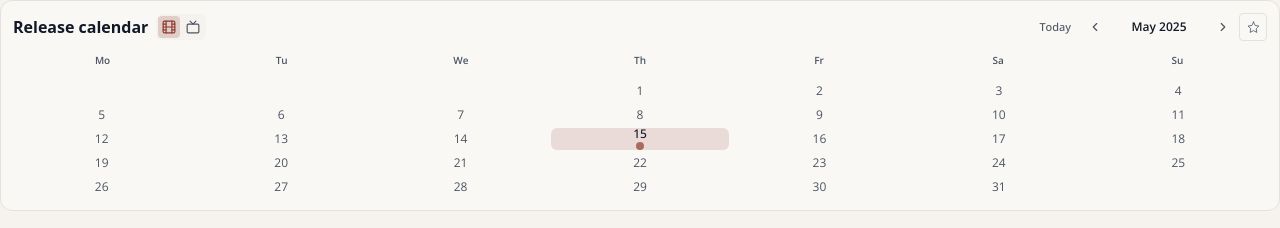
Test: ReleaseCalendar › day selection › clicking a day with a release shows the releases panel
Click the button named "May 15, 2025" at (640, 139), box [551,128,729,150]
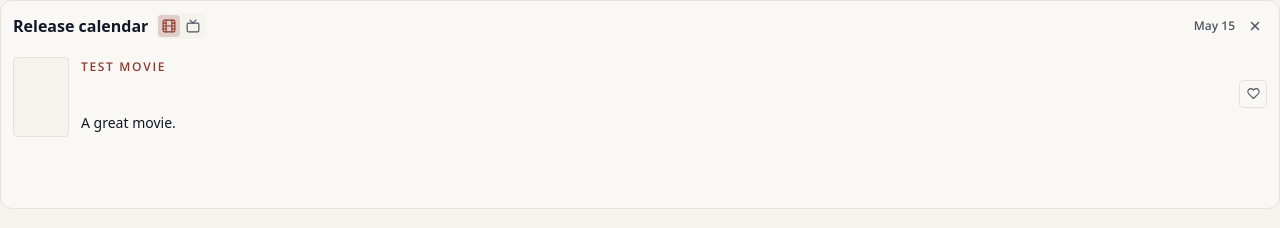
Check: the text "Test Movie" is shown, box [81,58,166,75]
